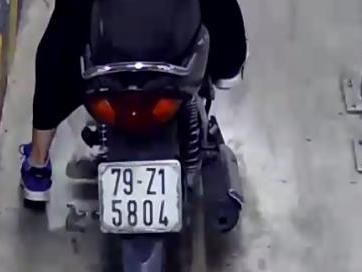num_plate: (98, 160, 183, 233)
